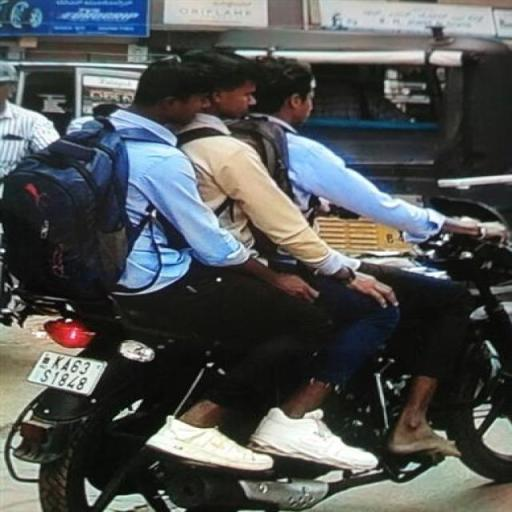tripple riding: (0, 48, 512, 309)
